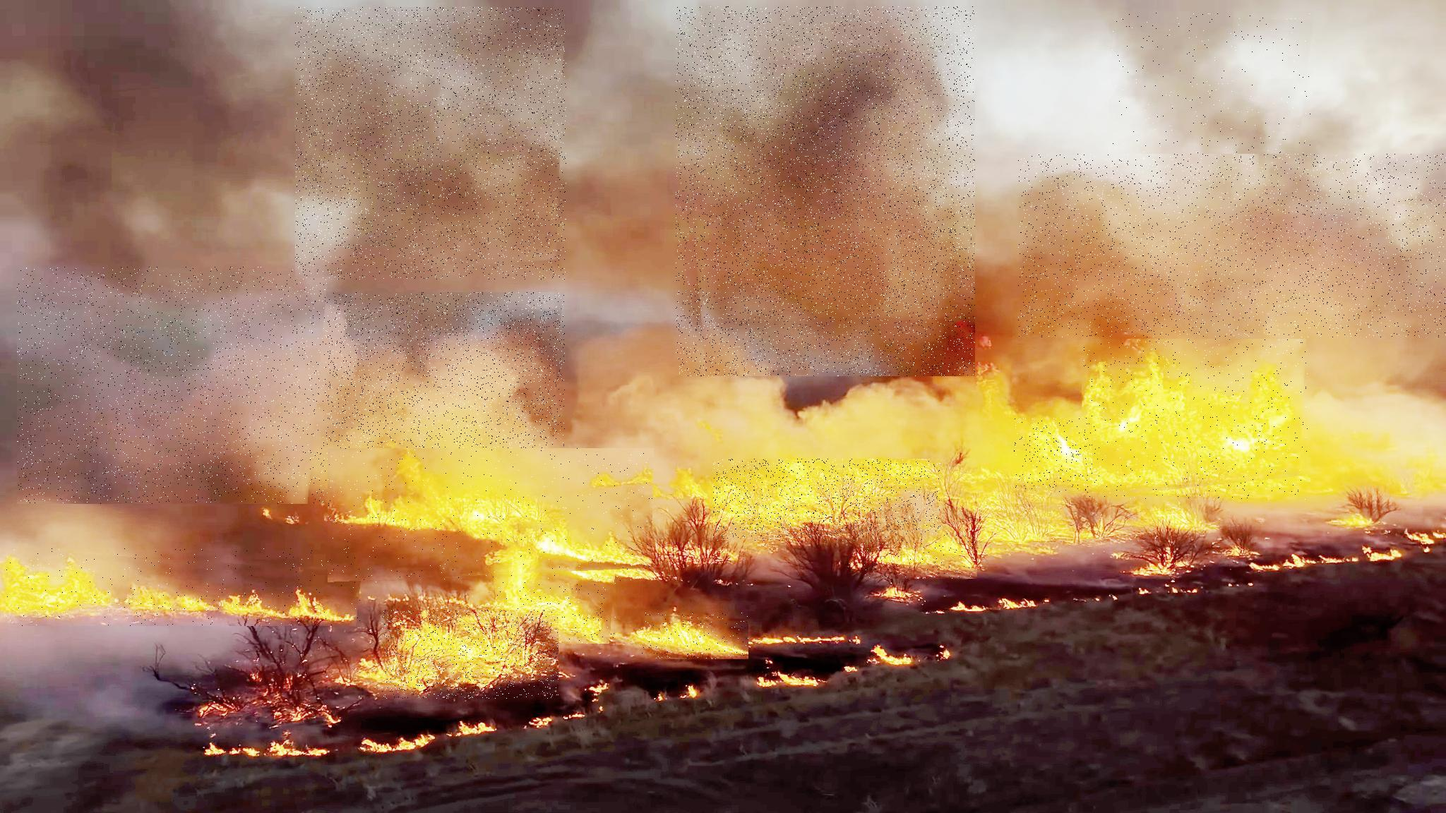fire: (328, 448, 654, 582), (1082, 339, 1308, 500), (6, 548, 362, 626), (713, 459, 940, 541), (382, 610, 558, 699), (494, 549, 616, 644), (1013, 418, 1092, 493), (864, 532, 977, 579), (641, 613, 748, 659)
smoke: (676, 6, 975, 376), (1018, 154, 1446, 337), (295, 7, 566, 280), (17, 267, 328, 504), (237, 292, 565, 494), (1109, 13, 1313, 193)
